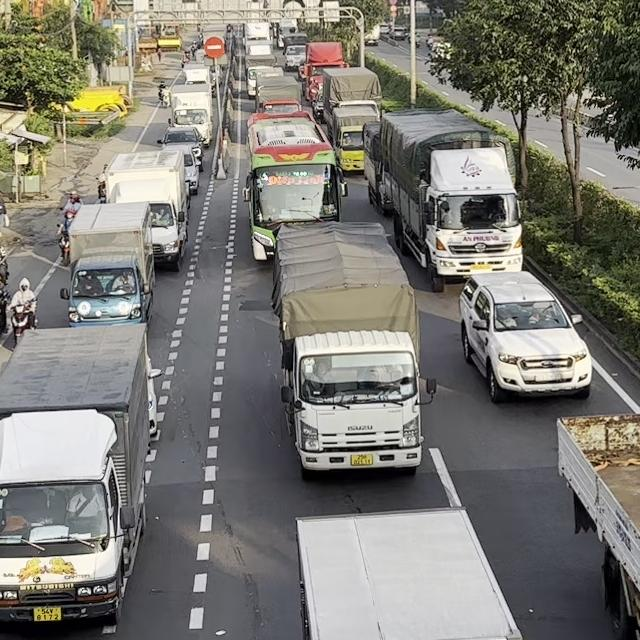bus: (243, 111, 348, 262)
car: (458, 270, 592, 404)
motorcycle: (8, 300, 37, 346), (56, 223, 71, 264)
truck: (0, 322, 162, 632), (270, 220, 436, 477), (361, 107, 524, 292), (555, 412, 639, 639), (58, 201, 157, 326), (101, 150, 191, 270), (327, 99, 382, 175), (165, 82, 213, 147), (298, 40, 348, 102)
